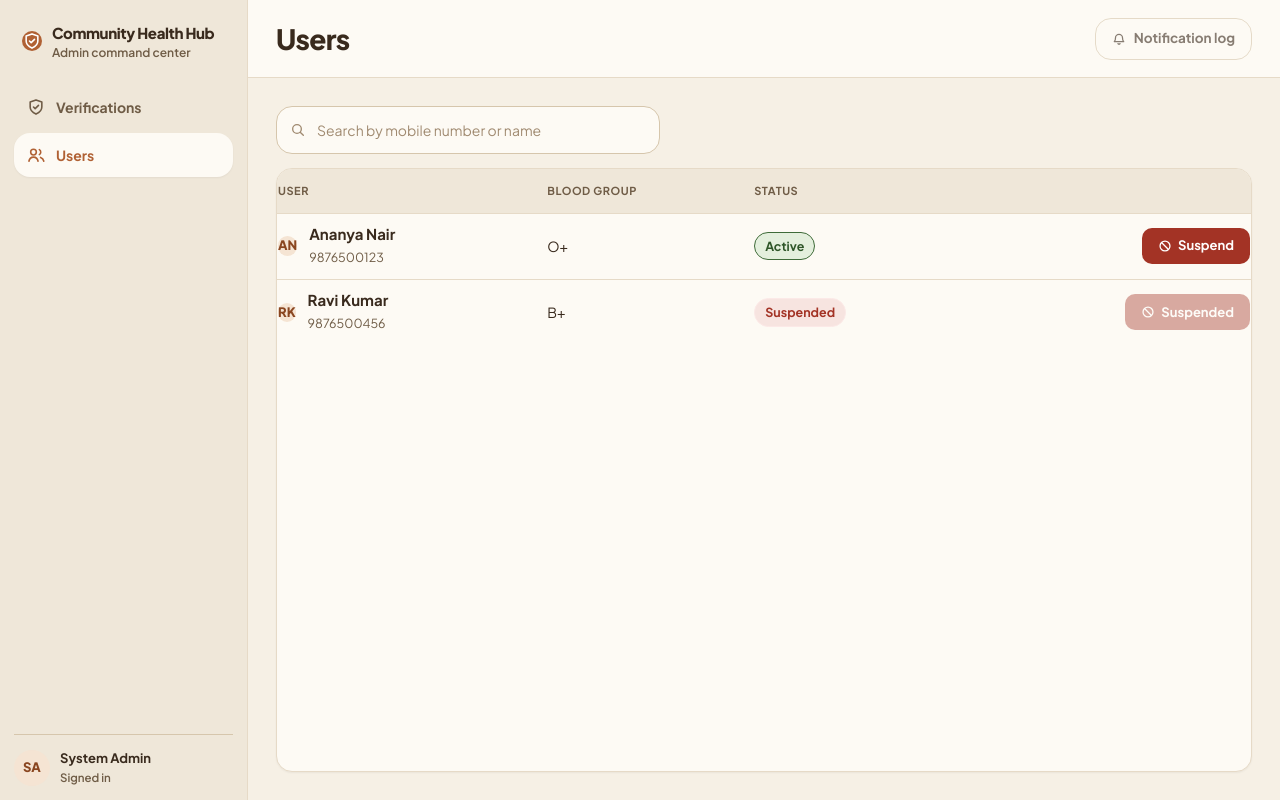
Test: UsersPage › opens the suspend modal, requires a reason, and suspends on confirm
Expected: the text "Ananya Nair" is shown, top-left (309, 224), bottom-right (395, 244)
Click the button "Suspend": (1196, 246) top-left (1142, 228), bottom-right (1250, 264)
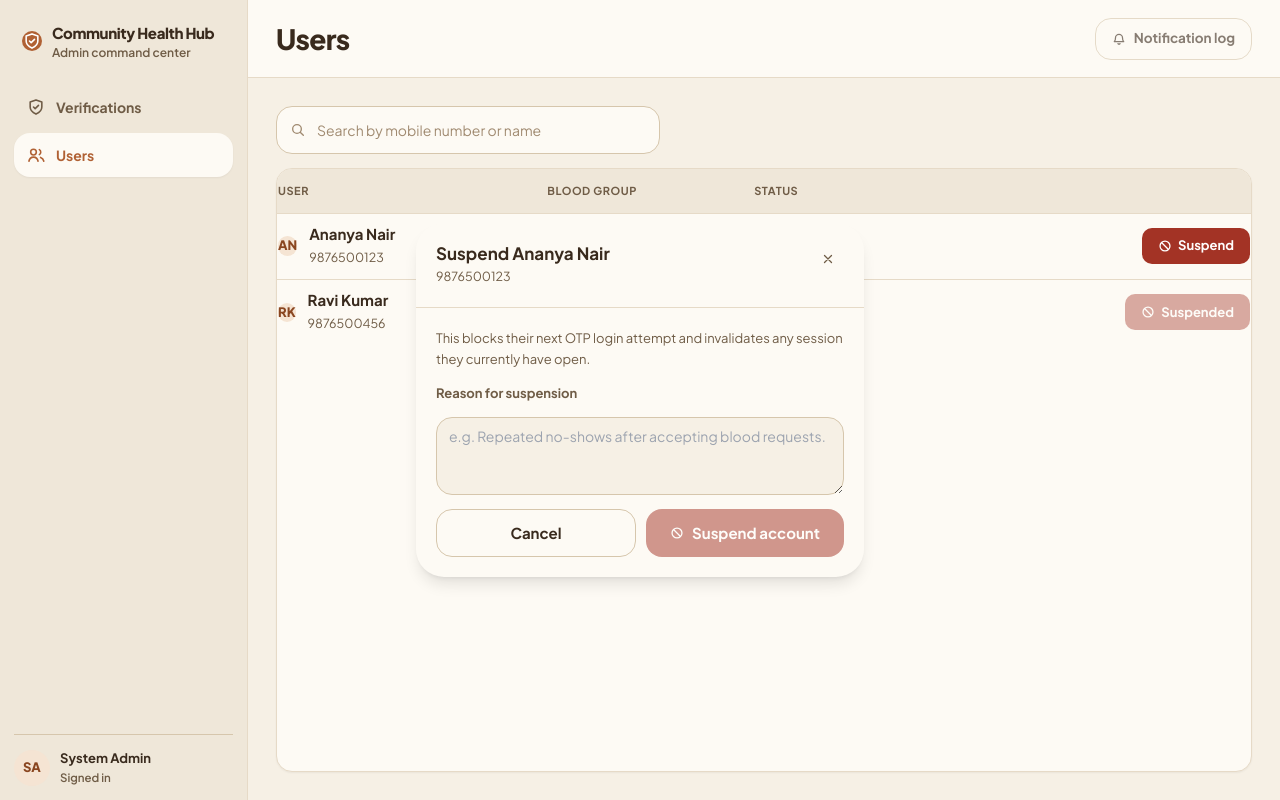
Result: the button "Suspend account" is disabled at top-left (646, 509), bottom-right (844, 557)
In the text box labelled "Reason for suspension": (640, 456) top-left (436, 417), bottom-right (844, 495), type "Repeated no-shows"
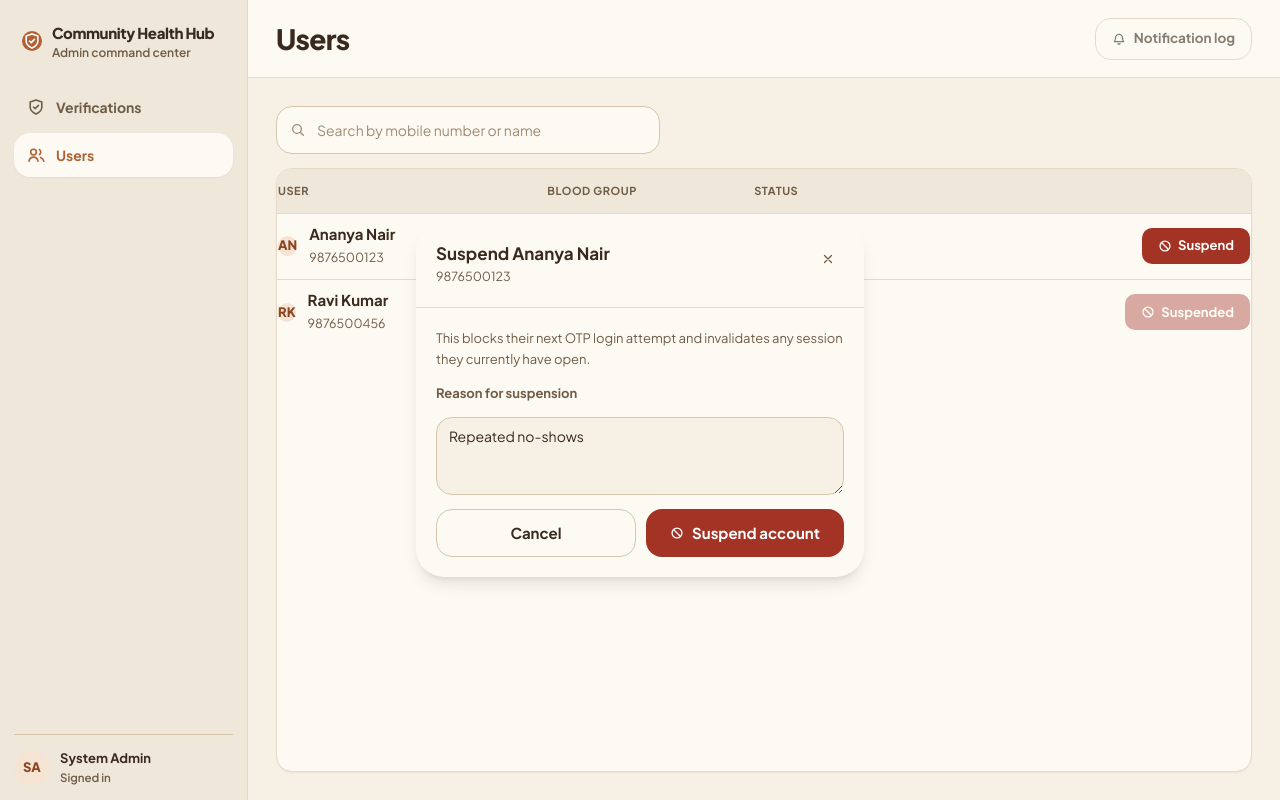
Result: the button "Suspend account" is enabled
Click the button "Suspend account": (745, 533) top-left (646, 509), bottom-right (844, 557)
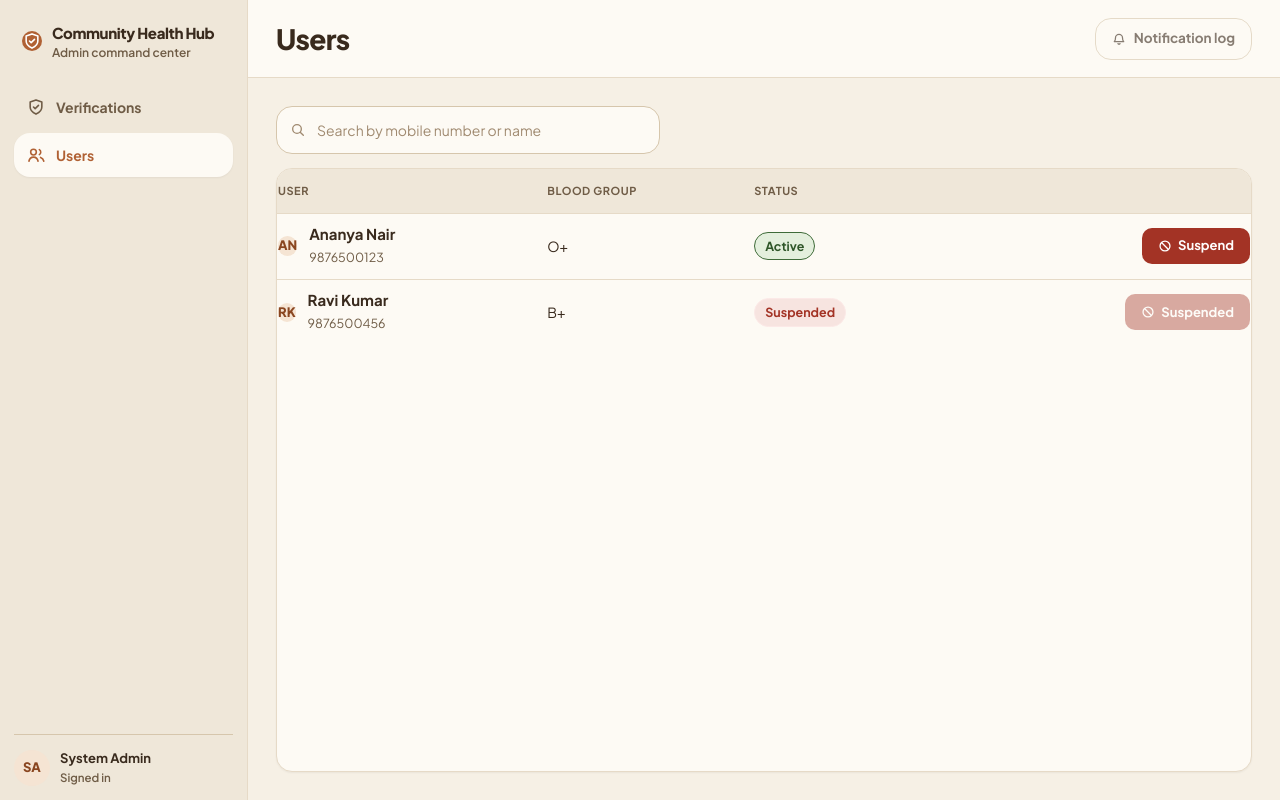
Result: the button "Suspend account" is gone
